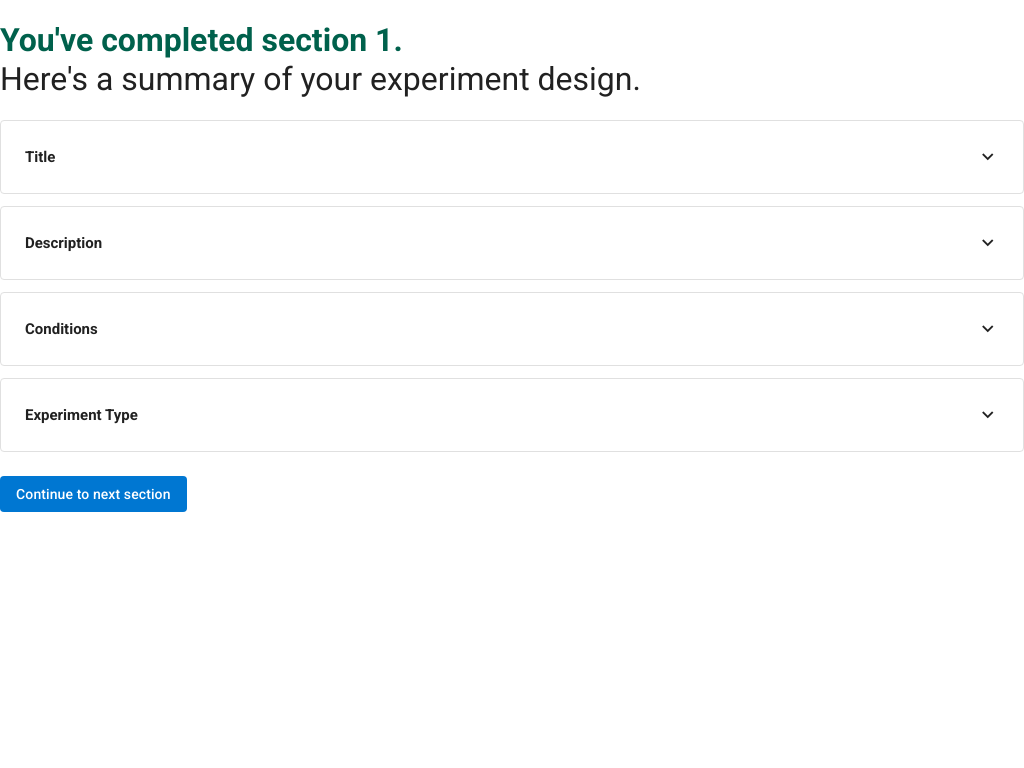
DesignSummary › displays 'All conditions' for a WITHIN exposure type
What coordinates should you click on to do the following:
click the button "Title"
I would click on:
 (40, 157)
Its box is [1,133,1023,181].
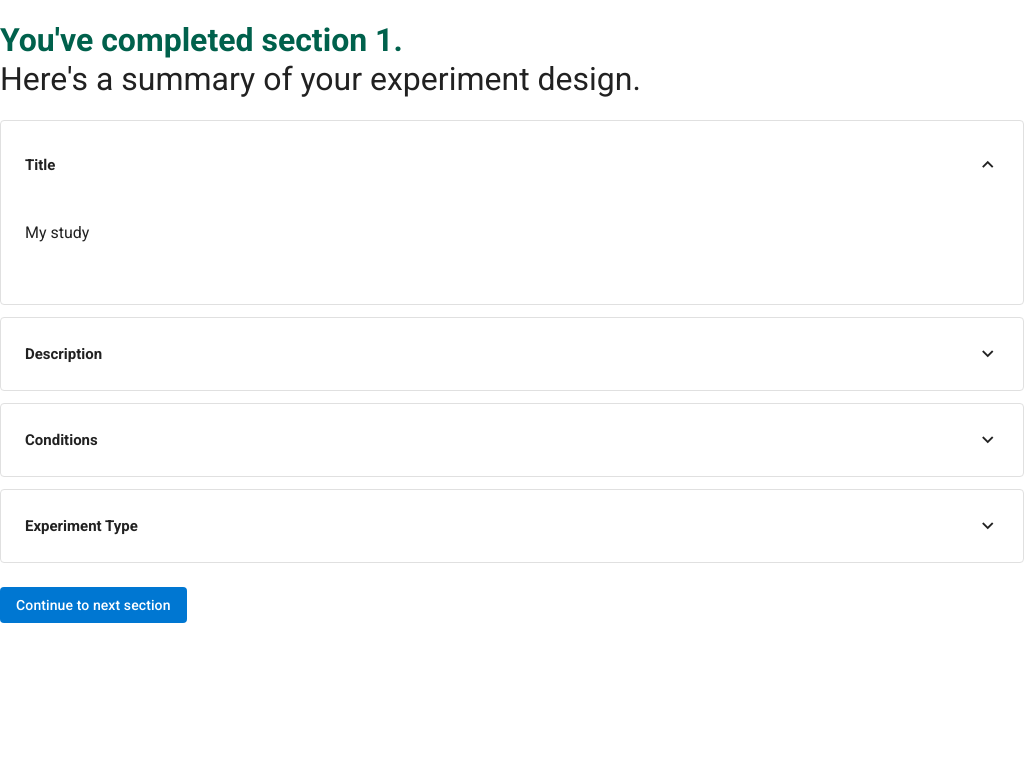
What coordinates should you click on to do the following:
click the button "Description"
I would click on:
 (64, 354)
Its box is [1,330,1023,378].
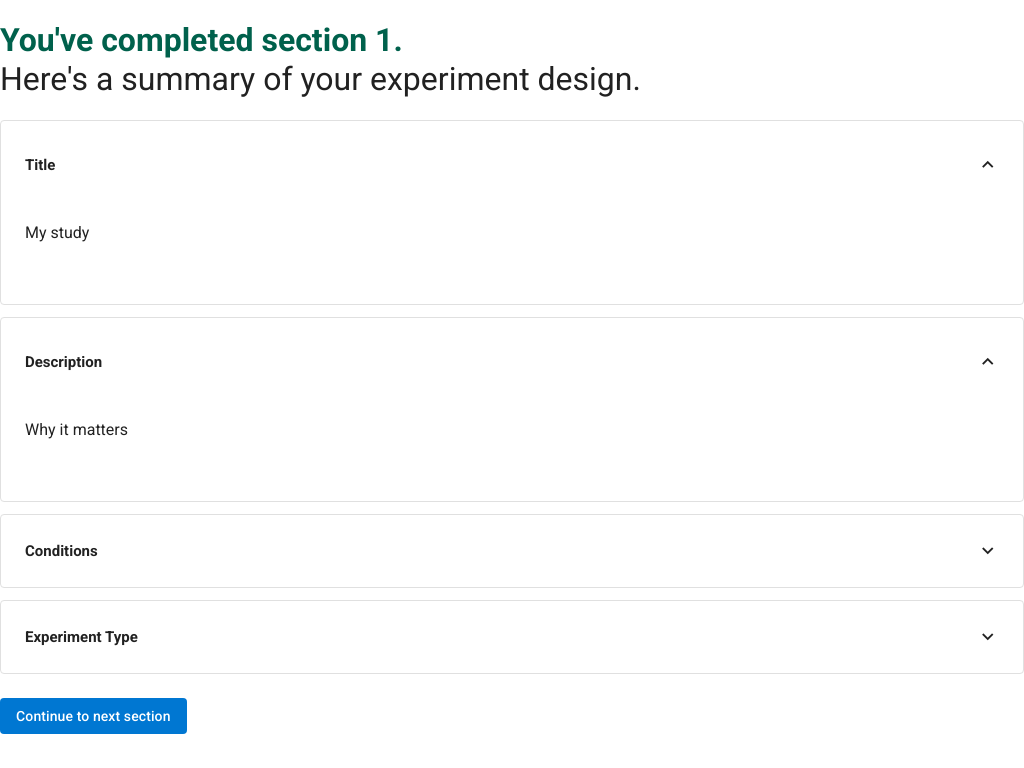
What coordinates should you click on to do the following:
click the button "Conditions"
I would click on:
 (61, 551)
Its box is [1,527,1023,575].
(page scrolled)
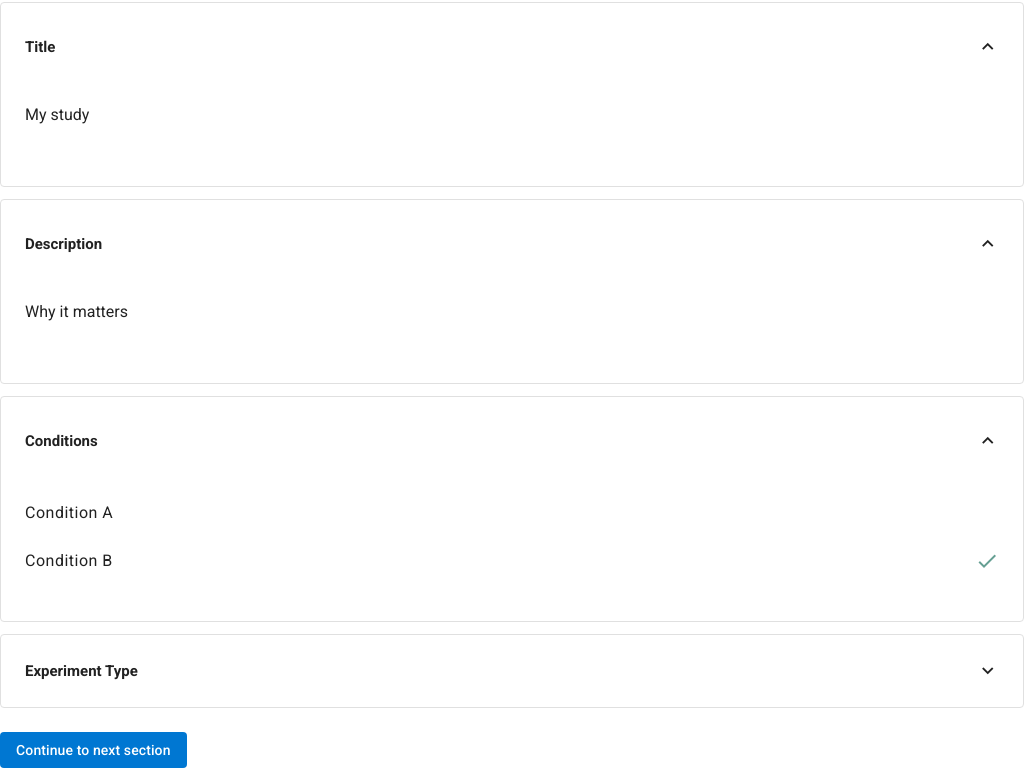
What coordinates should you click on to do the following:
click the button "Experiment Type"
I would click on:
 (81, 671)
Its box is [1,647,1023,695].
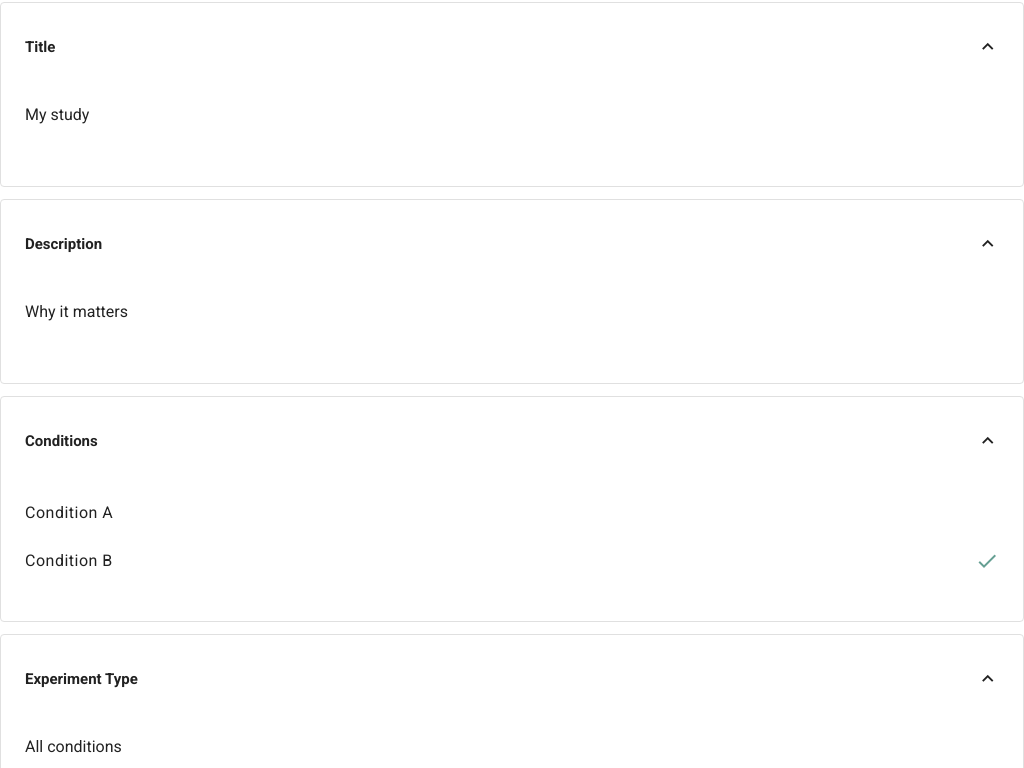
Now the text "All conditions" is shown, box [25,737,122,756]
